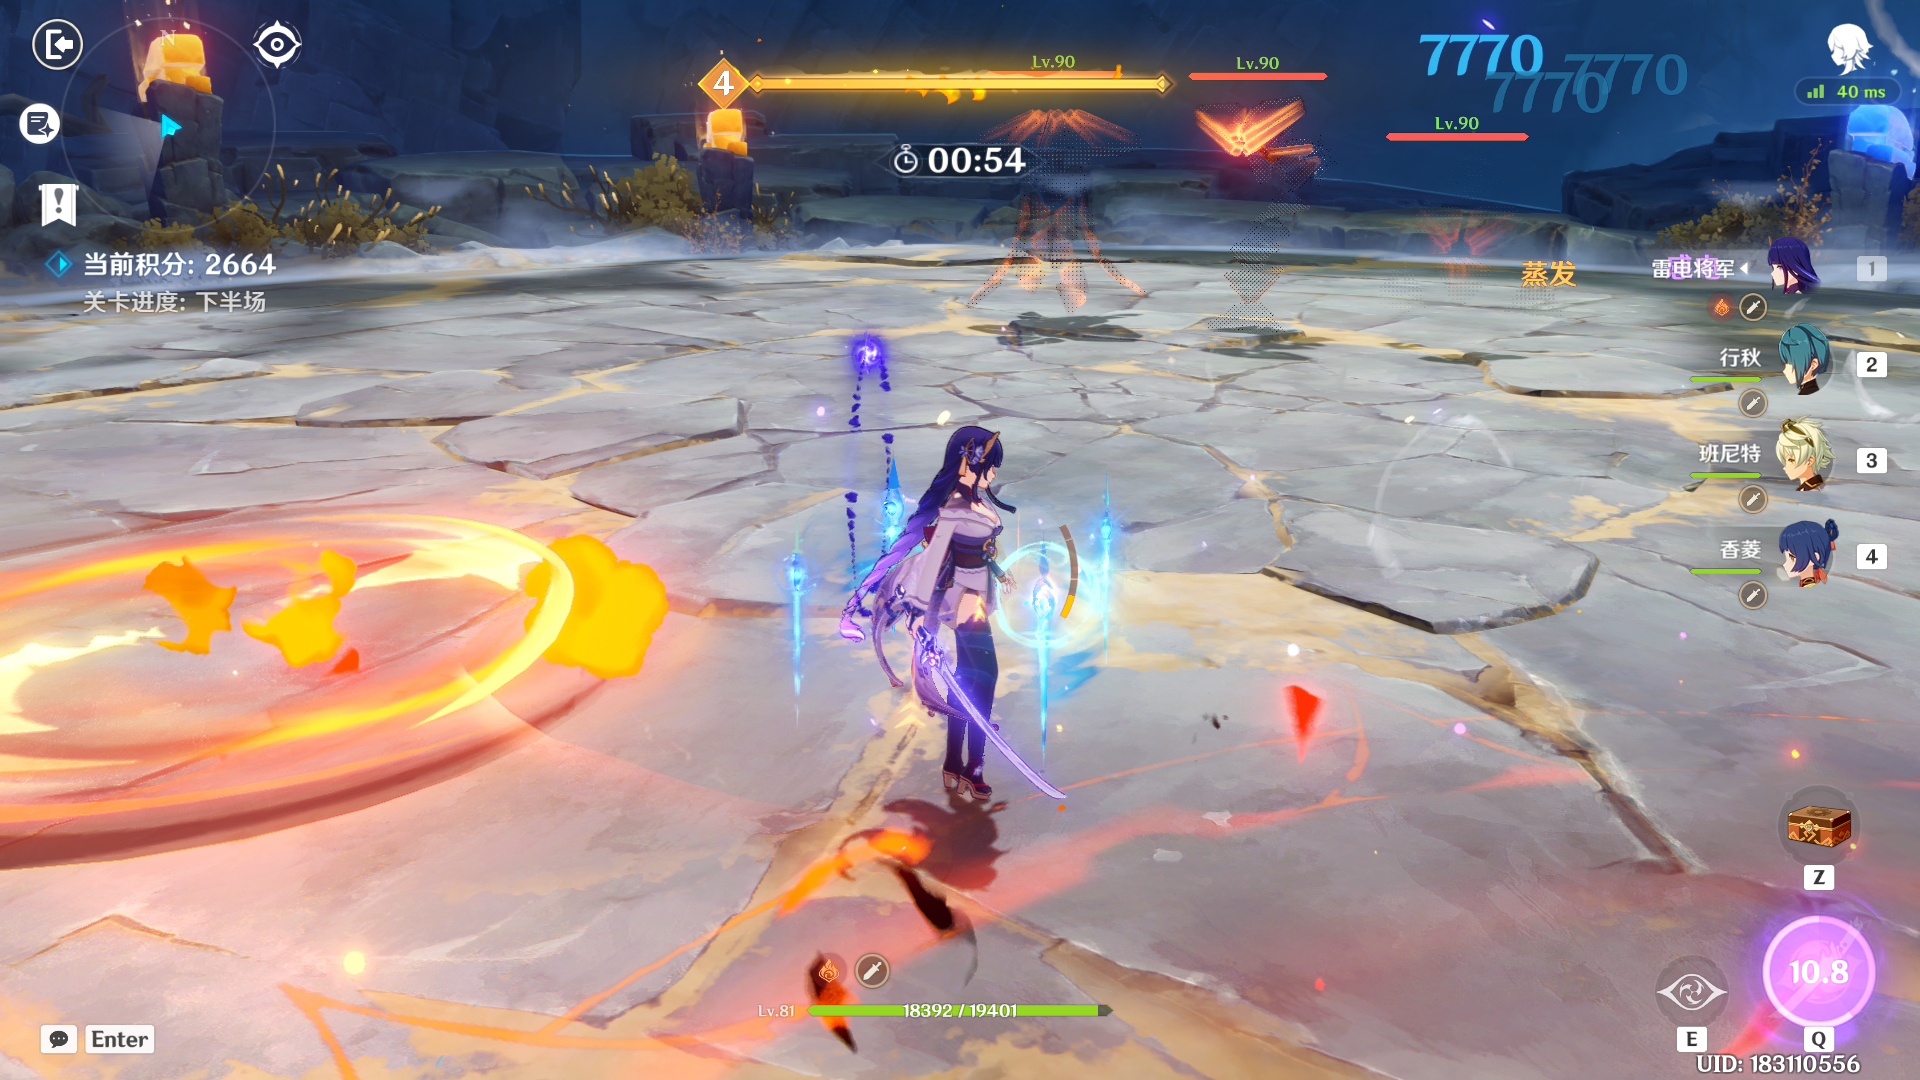character: (808, 349, 1084, 827)
